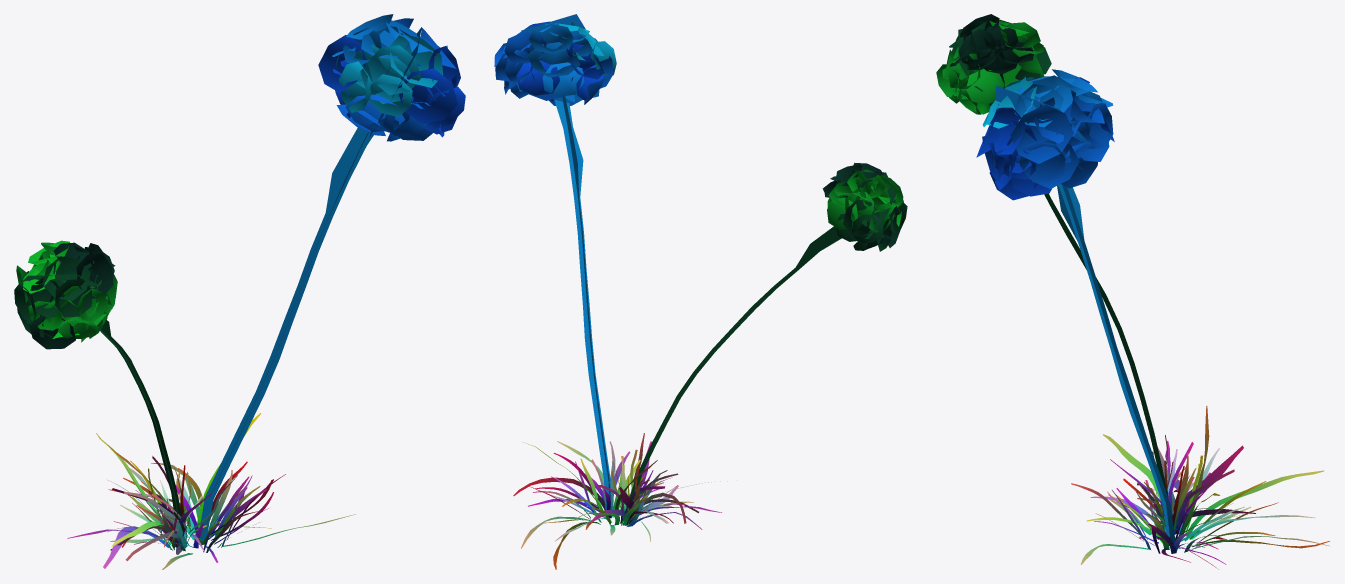
File: Sea_Thrift_vkbgaihha_High_vkbgaihha_VarH_LOD0.fbx
3 renders of one model, left to right at view 1: azimuth 30°, elevation 25°; view 2: azimuth 150°, elevation 25°; view 3: azimuth 270°, elevation 25°, orthographic. The views are drawn at different scales.
Parts seen in each view (by area): view 1: _y9fv_VarH_LOD0; view 2: _y9fv_VarH_LOD0; view 3: _y9fv_VarH_LOD0.
Boxes of the visible parts, x1,y1,x2,y2 form: _y9fv_VarH_LOD0: (14, 14, 465, 569); _y9fv_VarH_LOD0: (494, 14, 907, 569); _y9fv_VarH_LOD0: (936, 14, 1329, 569).
Size of the model in its own units: 12.35 by 13.7 by 9.12.
